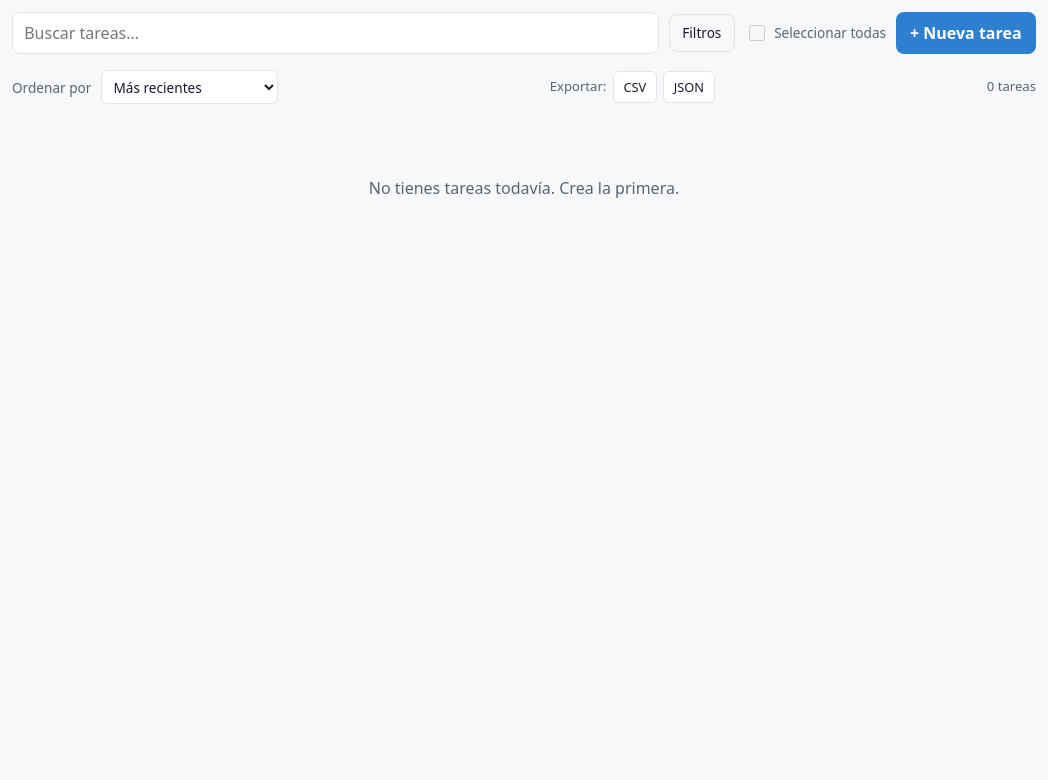
Scenario: <TodoList /> › opens the new-task form on demand
This screenshot has width=1048, height=780.
Click the button "+ Nueva tarea" at [966, 33], box x1=896 y1=12 x2=1036 y2=54
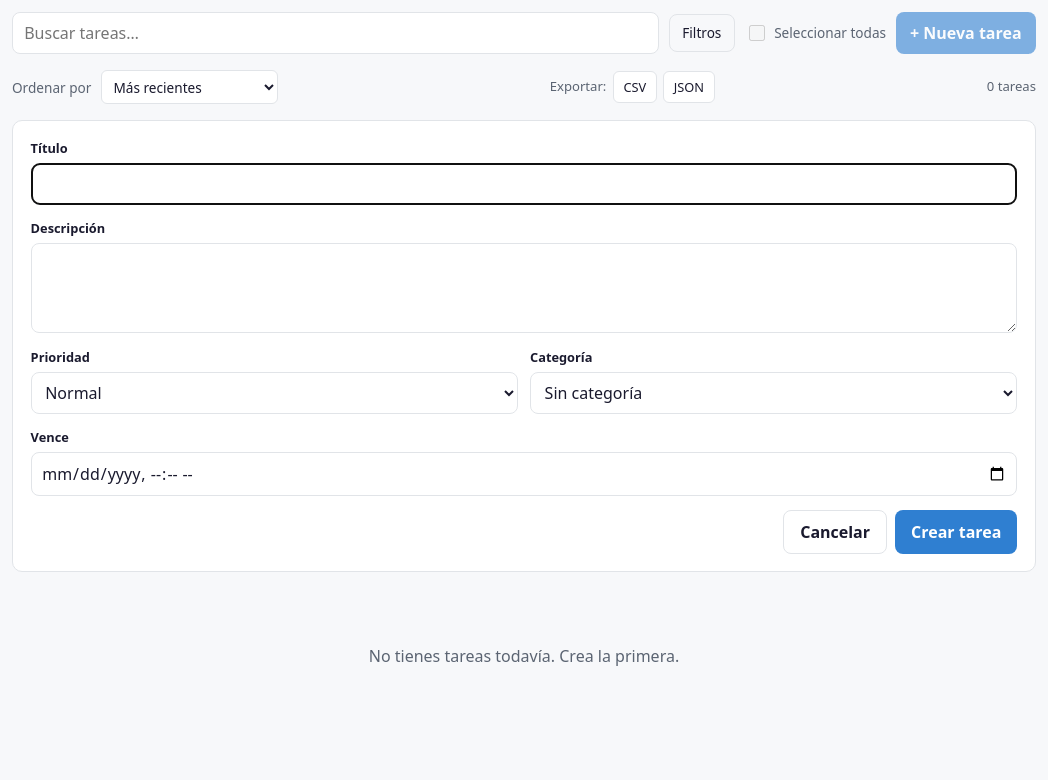
Expected: the form named "nueva tarea" is shown, x1=31 y1=139 x2=1017 y2=554
